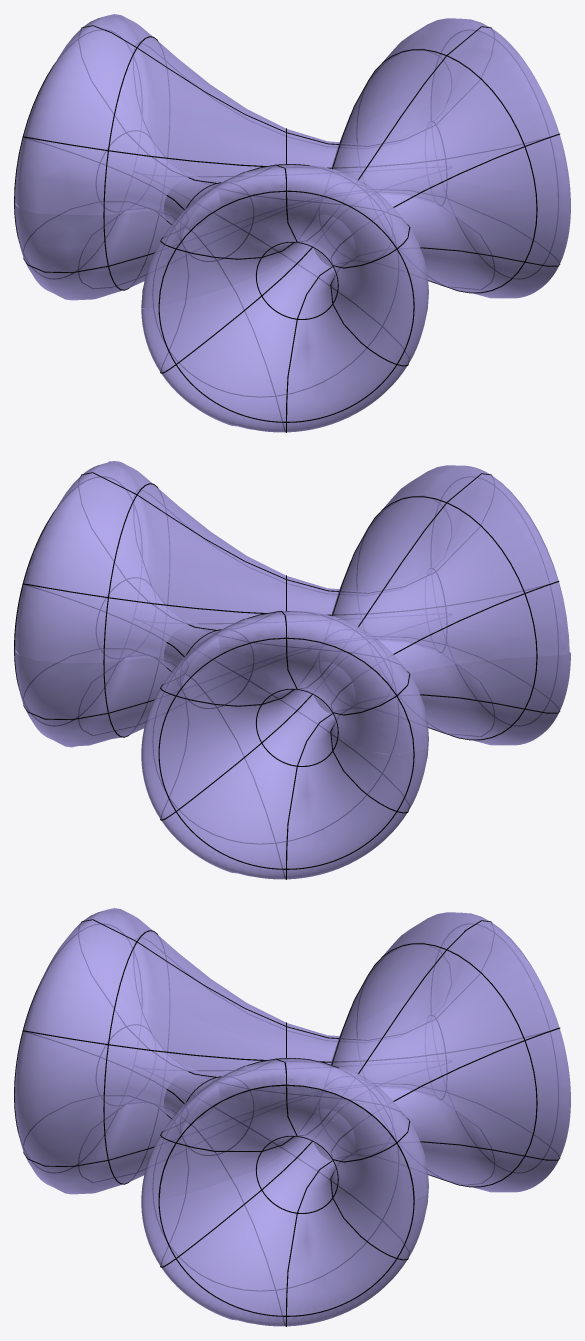
File: klein tripla.fbx
3 views of the same model, one above another, from view 1: azimuth 30°, elevation 25°; view 2: azimuth 150°, elevation 25°; view 3: azimuth 270°, elevation 25° (orthographic).
Parts seen in each view (by area): view 1: a_27, a_28, a_23, a_5, a_25, a_15, a_21, a_2, a_19, a_17, a_10, a_6; view 2: a_27, a_28, a_23, a_25, a_9, a_15, a_21, a_6, a_2, a_17, a_19, a_10; view 3: a_27, a_28, a_21, a_23, a_19, a, a_13, a_25, a_10, a_6, a_17, a_2 (+1 smaller).
Boxes of the visible parts, x1,y1,x2,y2 form: a_27: (14,14,570,432); a_28: (15,14,570,432); a_23: (78,25,494,242); a_5: (158,190,414,422); a_25: (23,50,546,259); a_15: (23,189,548,373); a_21: (133,42,559,268); a_2: (357,49,537,293); a_19: (198,176,560,366); a_17: (78,211,494,432); a_10: (103,36,169,290); a_6: (152,164,398,397); a_27: (14,461,570,879); a_28: (15,461,570,878); a_23: (78,472,494,689); a_25: (23,504,559,715); a_9: (158,637,414,869); a_15: (23,636,560,813); a_21: (26,489,451,706); a_6: (357,496,537,740); a_2: (103,483,169,737); a_17: (78,658,494,879); a_19: (23,623,312,820); a_10: (152,611,398,844); a_27: (14,908,570,1326); a_28: (14,908,570,1325); a_21: (23,1027,560,1162); a_23: (78,919,494,1136); a_19: (23,1083,560,1267); a: (158,1084,414,1316); a_13: (158,1084,414,1316); a_25: (133,938,451,1151); a_10: (357,943,537,1187); a_6: (103,930,169,1184); a_17: (78,1105,494,1326); a_2: (152,1058,398,1291).
Bounding box in the file's own units: 185 × 109 × 208.
